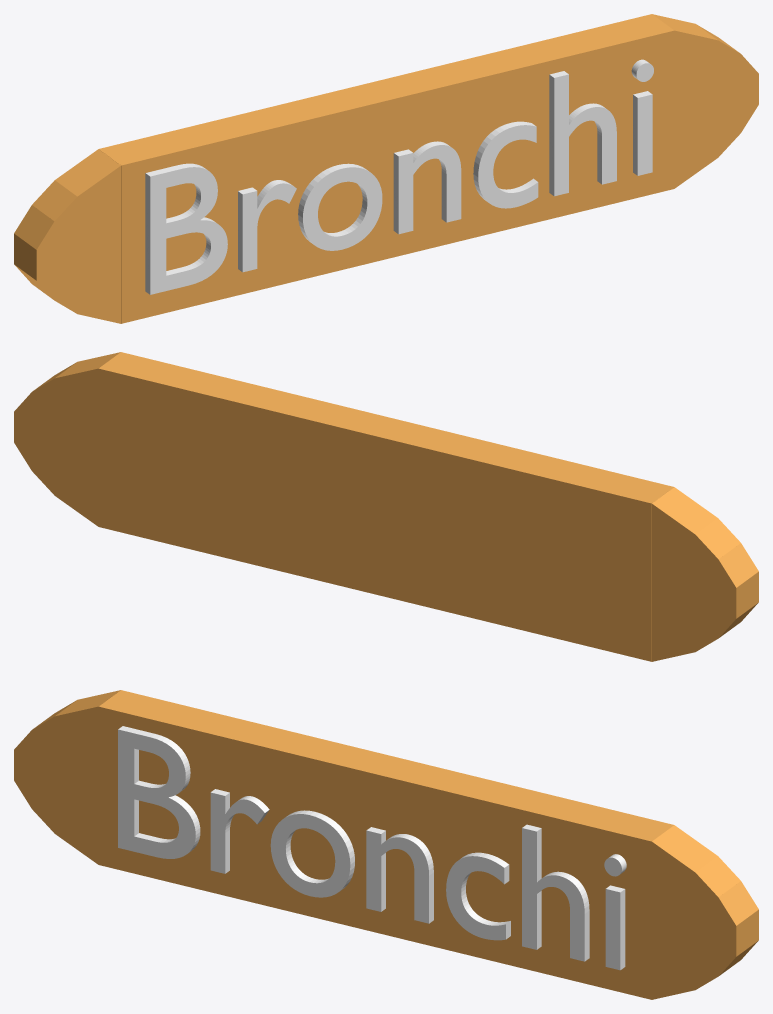
Rendered from TxtBronchi.fbx.
The picture shows the model from 3 angles, top to bottom: view 1: azimuth 30°, elevation 25°; view 2: azimuth 150°, elevation 25°; view 3: azimuth 330°, elevation 25°; orthographic projection.
Visible parts, largest first — view 1: TagContainer.039, Text.036; view 2: TagContainer.039; view 3: TagContainer.039, Text.036.
Part boxes in pixels (x1,y1,x2,y2): TagContainer.039: [14, 14, 758, 323]; Text.036: [145, 59, 653, 294]; TagContainer.039: [14, 352, 758, 661]; TagContainer.039: [14, 690, 758, 999]; Text.036: [118, 726, 626, 970].
Bounding box in the file's own units: 197 × 41.3 × 12.93.
